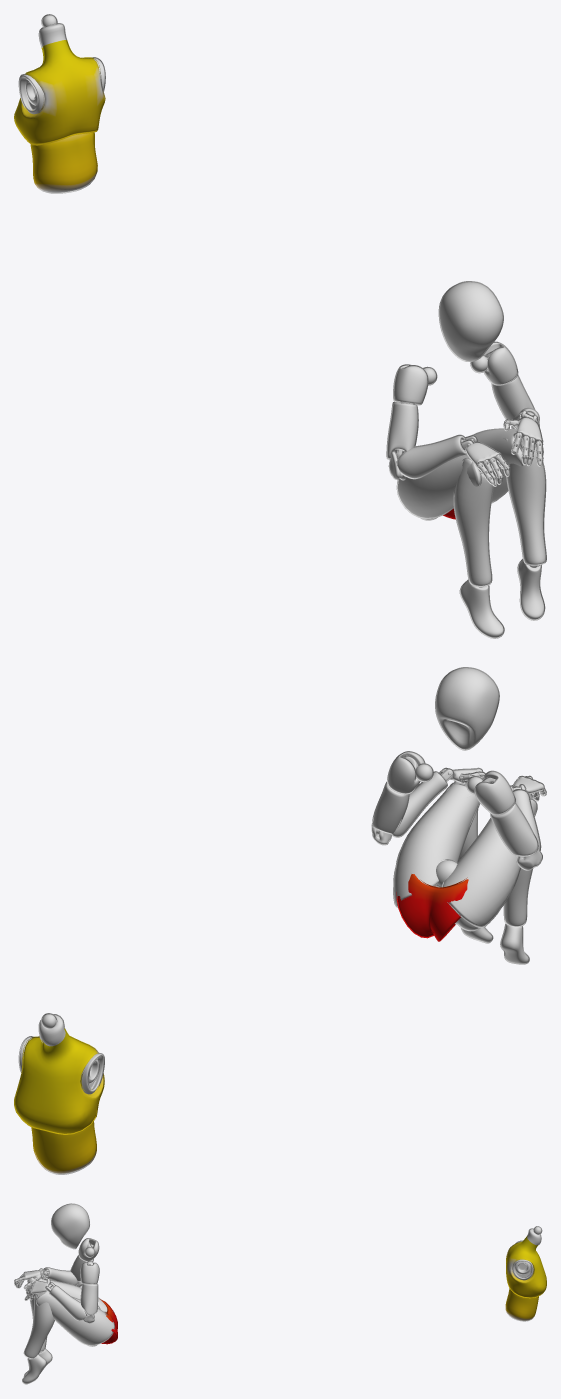
File: redoll_2_rigged.glb
3 views of the same model, one above another, from view 1: azimuth 30°, elevation 25°; view 2: azimuth 150°, elevation 25°; view 3: azimuth 270°, elevation 25° (orthographic). The views are drawn at different scales.
Parts seen in each view (by area): view 1: chest.002, calf.002, tight.002, head.002, waist.003, foot.002, upperArm.002, shoulder.002, foreArm.002, palm.002; view 2: tight.002, chest.002, head.002, hip.002, upperArm.002, waist.003, shoulder.002, foreArm.002, calf.002, foot.002, clavicleKnot.002, elbow.002; view 3: chest.002, tight.002, head.002, calf.002, foreArm.002, waist.003, upperArm.002, shoulder.002, foot.002, palm.002, hip.002.
Boxes of the visible parts, box(x1,y1,x2,y2) form: chest.002: box(14, 14, 105, 145); calf.002: box(453, 437, 546, 586); tight.002: box(396, 428, 543, 518); head.002: box(438, 281, 503, 361); waist.003: box(30, 132, 97, 193); foot.002: box(459, 559, 545, 638); upperArm.002: box(386, 374, 535, 459); shoulder.002: box(393, 341, 518, 405); foreArm.002: box(396, 407, 539, 479); palm.002: box(465, 416, 543, 466); tight.002: box(393, 782, 537, 927); chest.002: box(14, 1013, 104, 1134); head.002: box(435, 667, 499, 750); hip.002: box(396, 859, 480, 941); upperArm.002: box(371, 781, 538, 856); waist.003: box(31, 1121, 96, 1174); shoulder.002: box(387, 751, 515, 815); foreArm.002: box(391, 771, 541, 857); calf.002: box(444, 785, 533, 926); foot.002: box(461, 924, 529, 964); clavicleKnot.002: box(404, 755, 495, 794); elbow.002: box(371, 823, 542, 870); chest.002: box(506, 1226, 546, 1298); tight.002: box(29, 1278, 114, 1345); head.002: box(51, 1203, 89, 1249); calf.002: box(23, 1295, 54, 1358); foreArm.002: box(42, 1267, 86, 1320); waist.003: box(505, 1288, 538, 1321); upperArm.002: box(70, 1255, 98, 1315); shoulder.002: box(78, 1238, 99, 1284); foot.002: box(22, 1348, 52, 1384); palm.002: box(23, 1270, 50, 1294); hip.002: box(88, 1299, 117, 1346).
Size of the model in its own units: 0.4857 by 0.9504 by 2.58.
